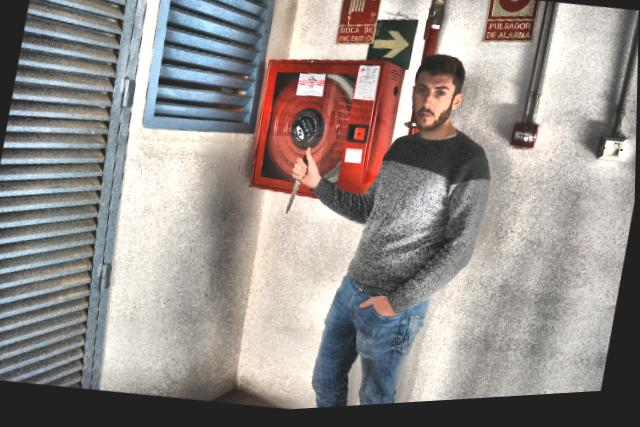knife: (283, 153, 313, 221)
